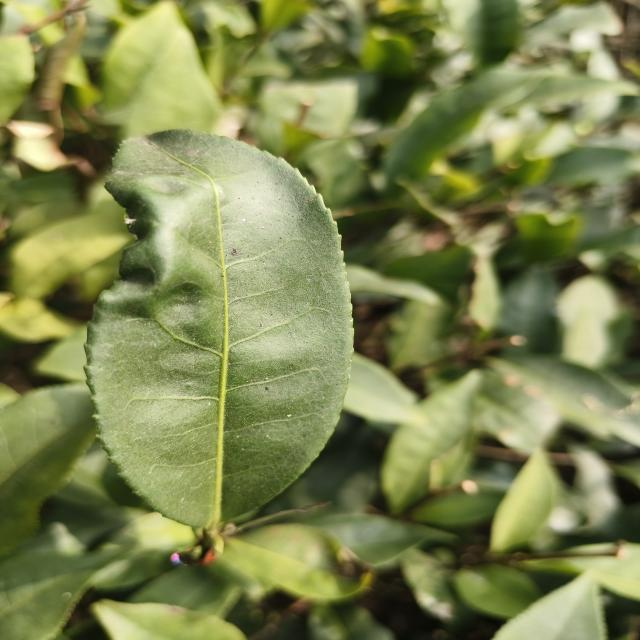Leaf: (87, 130, 352, 528), (0, 383, 95, 556), (383, 74, 510, 186), (381, 370, 480, 513), (11, 187, 133, 298), (490, 356, 640, 445), (102, 0, 203, 122), (220, 523, 371, 600), (0, 548, 115, 640), (492, 572, 607, 640), (96, 512, 195, 590), (311, 513, 455, 565), (126, 58, 219, 136), (516, 543, 640, 601), (490, 448, 559, 552), (92, 599, 246, 640), (399, 548, 473, 629), (129, 565, 239, 617), (343, 352, 418, 424), (498, 266, 558, 353), (454, 564, 541, 619), (388, 300, 450, 372), (411, 489, 504, 527), (549, 147, 636, 184), (308, 604, 394, 640), (474, 0, 519, 67)
